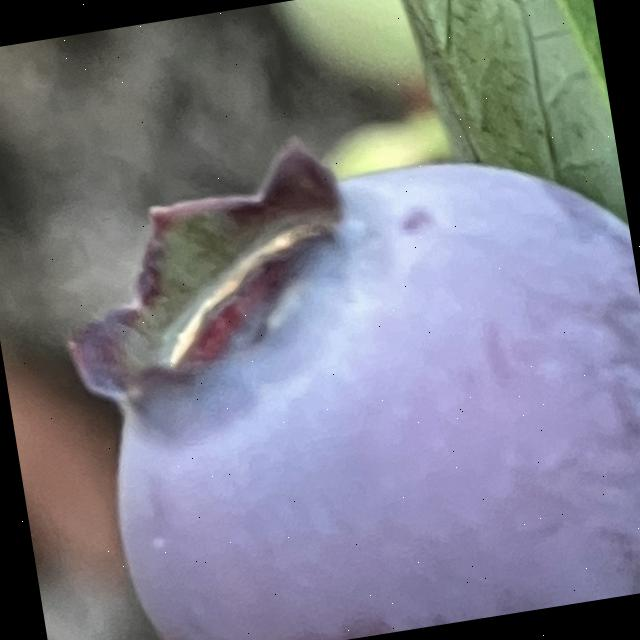Blueberries: (34, 88, 640, 640)
